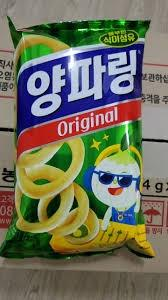snack: (1, 15, 157, 260)
